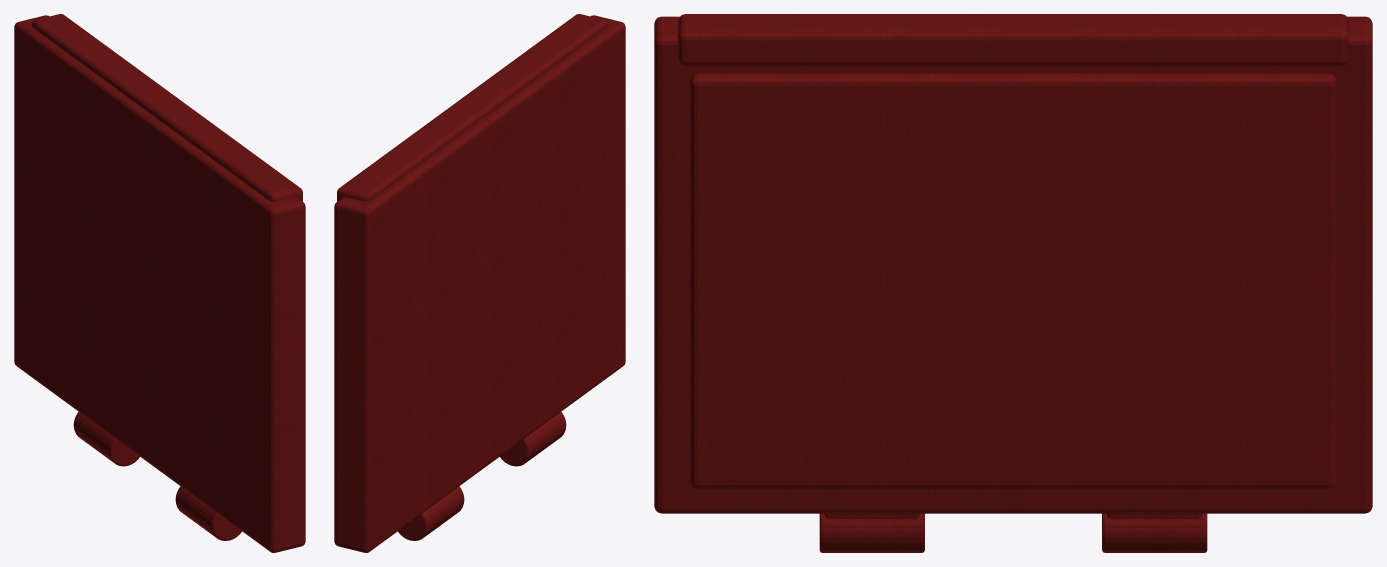
The model's file is flap_panel_vis.obj.
3 views of the same model, side by side, from view 1: azimuth 30°, elevation 25°; view 2: azimuth 150°, elevation 25°; view 3: azimuth 270°, elevation 25° (orthographic). The views are drawn at different scales.
Bounding box in the file's own units: 0.032 × 0.2455 × 0.3.
1 material, 1 textured.
